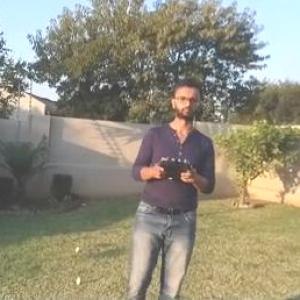follow: (117, 72, 216, 299)
